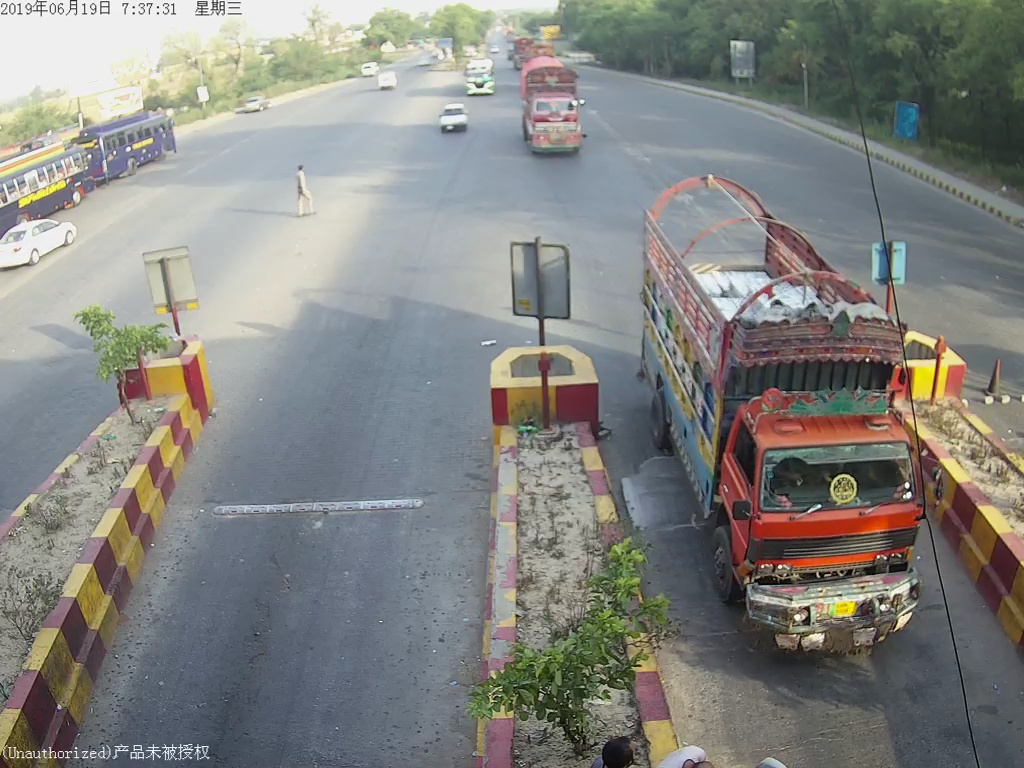Cat-1: (437, 99, 472, 134)
Cat-3: (458, 54, 498, 97)
Cat-4: (651, 177, 936, 651), (515, 56, 589, 160)
